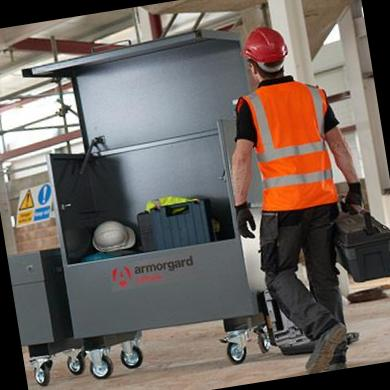Vest: (238, 67, 342, 216)
